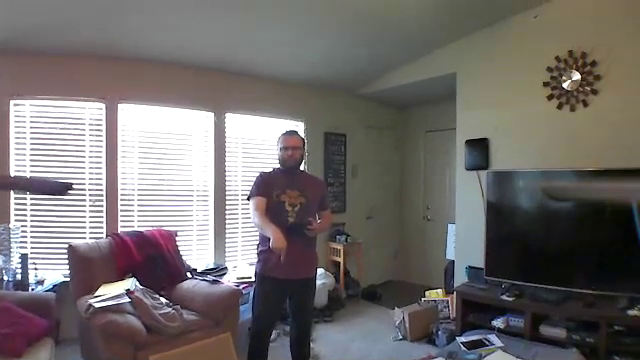down: (265, 218, 292, 271)
